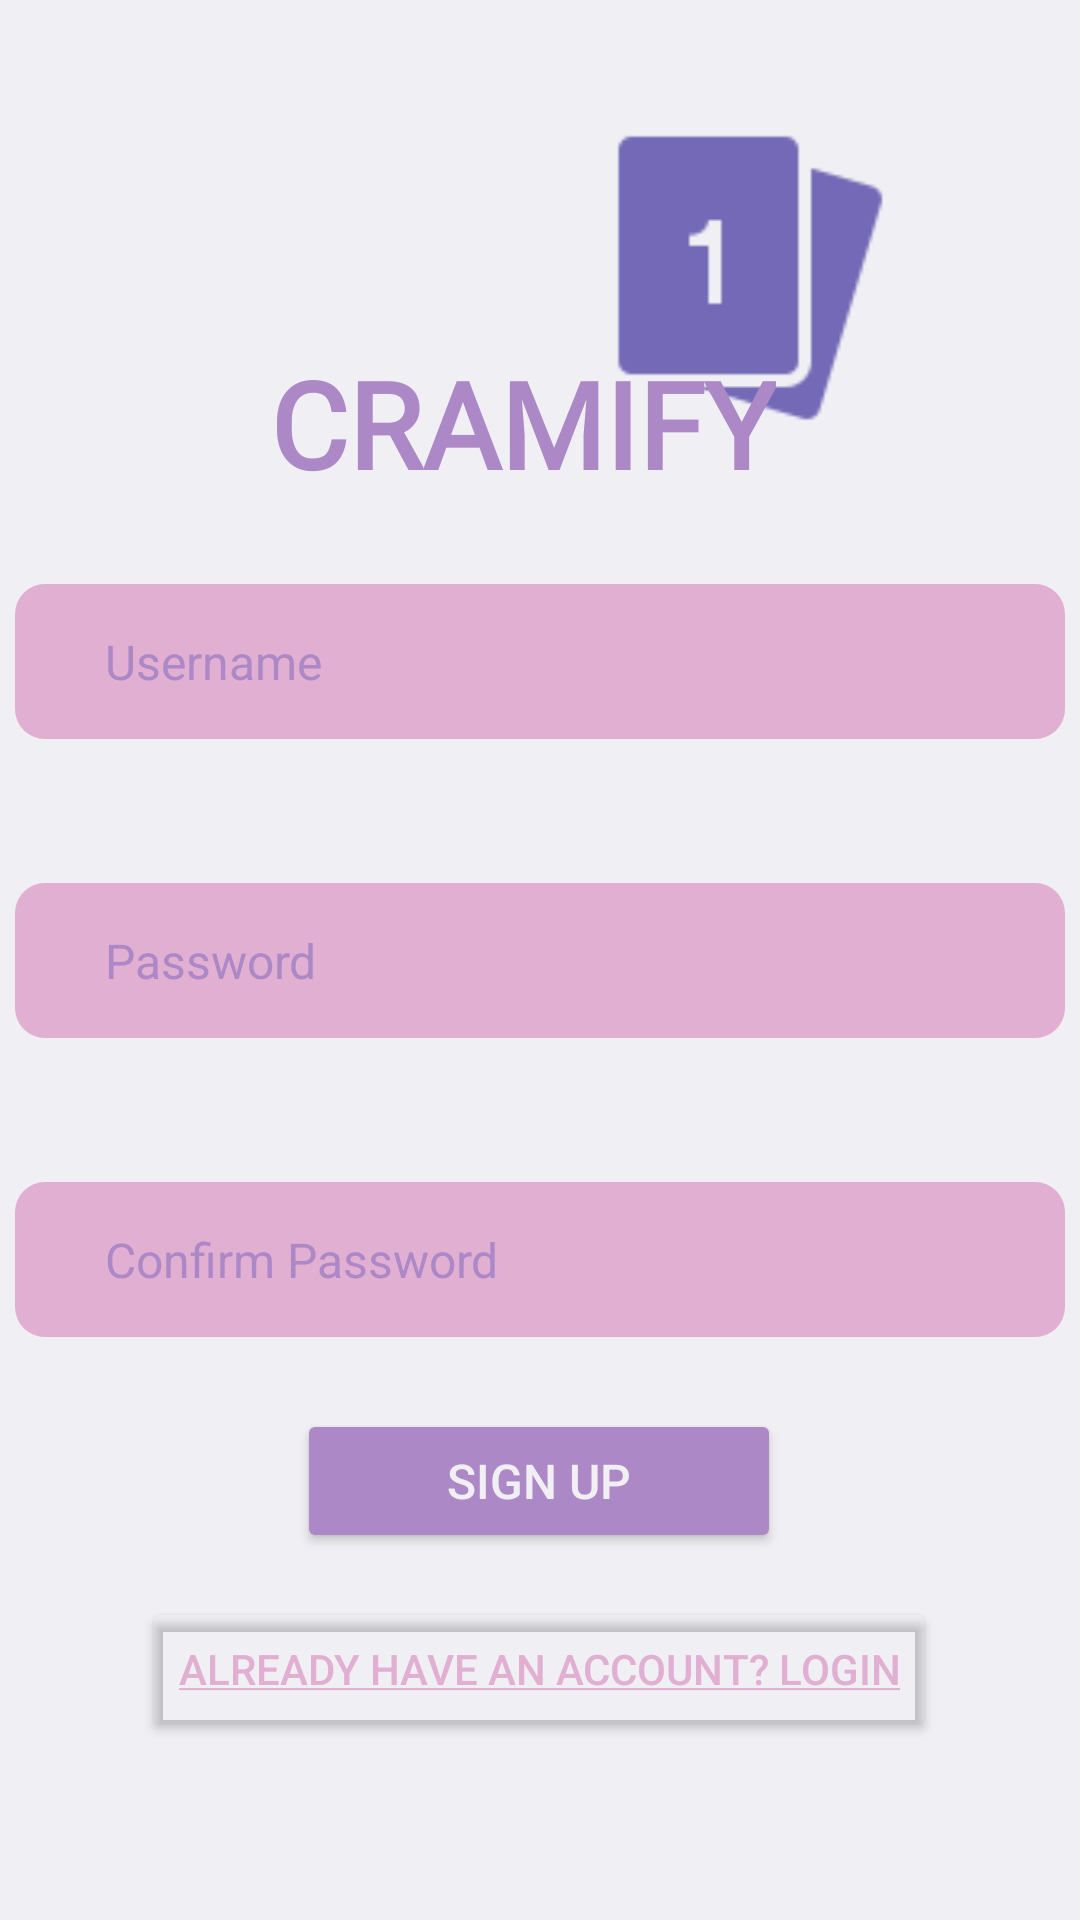

Where to tap for icons on this 1080w x 1920h app screen, as [x,y]:
card: [708,255]
